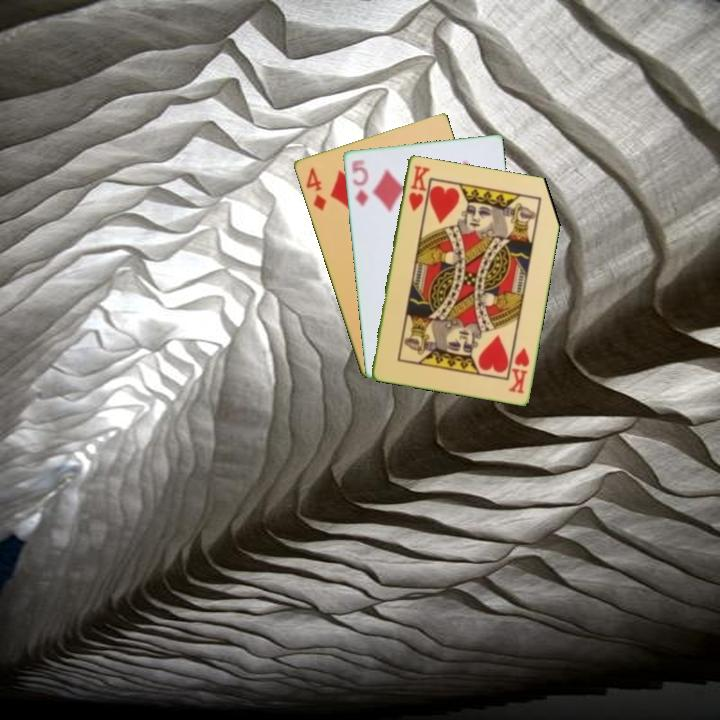4d: (302, 164, 329, 214)
5d: (348, 155, 370, 210)
Kh: (504, 344, 532, 396), (405, 162, 432, 214)
